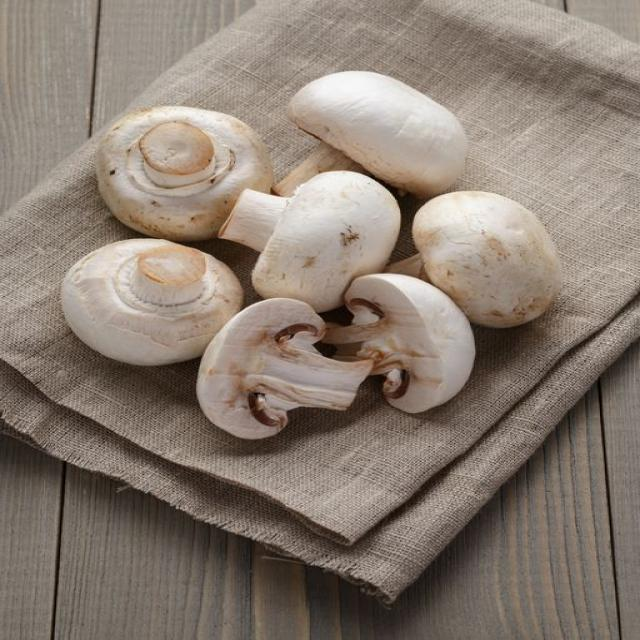champignon mushrooms: (219, 172, 399, 312), (198, 299, 372, 438), (274, 72, 467, 197), (97, 106, 272, 240), (388, 192, 561, 327), (62, 239, 242, 365), (323, 274, 474, 413)
